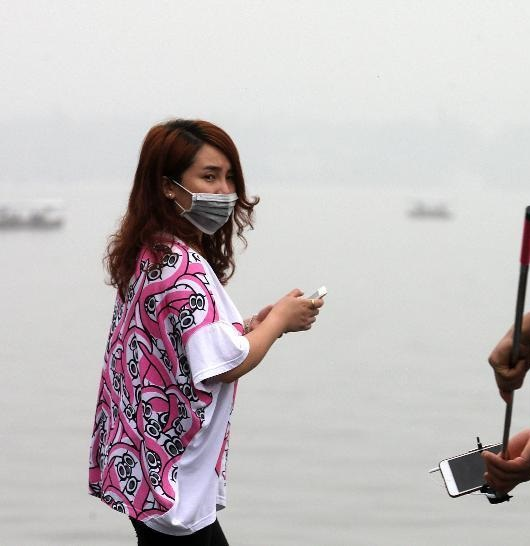face_mask: (180, 143, 236, 229)
